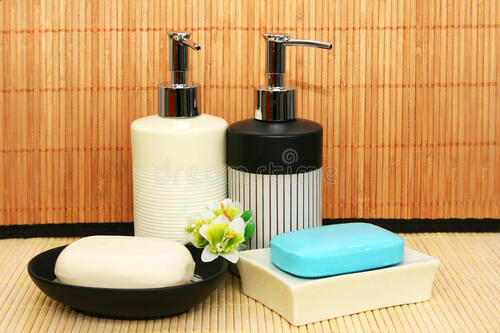sanitizer: (232, 28, 328, 231), (128, 30, 224, 223)
